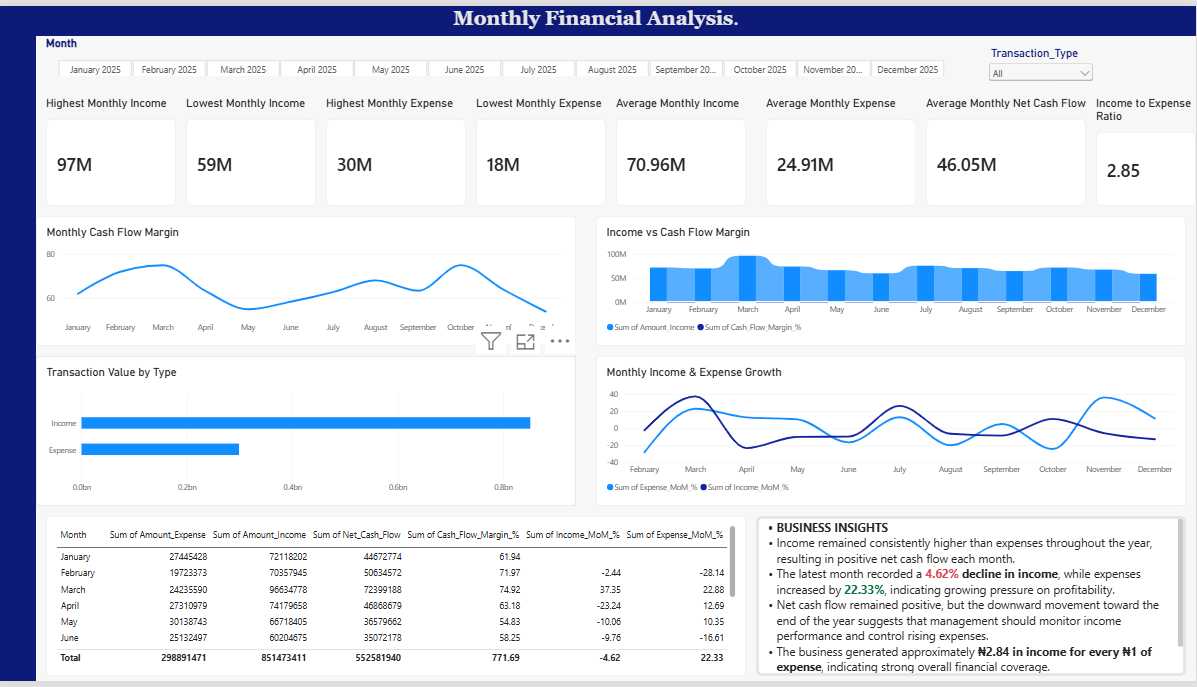

Layout of this report page (visuals, bound fields, positions):
{"tool":"powerbi","page":{"name":"Monthly Financial Analysis","canvas":[1920,1080],"ordinal":1},"visuals":[{"type":"textbox","box":[0,0,1920,48],"z":0},{"type":"lineChart","title":"Monthly Cash Flow Margin","fields":{"Category":["Monthly_Cash_Flow.Month.Variation.Date Hierarchy.Month"],"Y":["Sum(Monthly_Cash_Flow.Cash_Flow_Margin_%)"]},"box":[64,336,864,208],"z":1000},{"type":"lineChart","title":"Monthly Income & Expense Growth","fields":{"Y":["Sum(Monthly_Cash_Flow.Expense_MoM_%)","Sum(Monthly_Cash_Flow.Income_MoM_%)"],"Category":["Monthly_Cash_Flow.Month.Variation.Date Hierarchy.Month"]},"box":[960,560,944,240],"z":2000},{"type":"ribbonChart","title":"Income vs Cash Flow Margin","fields":{"Category":["Monthly_Cash_Flow.Month.Variation.Date Hierarchy.Month"],"Y":["Sum(Monthly_Cash_Flow.Amount_Income)","Sum(Monthly_Cash_Flow.Cash_Flow_Margin_%)"]},"box":[960,336,944,208],"z":3000},{"type":"clusteredBarChart","title":"Transaction Value by Type","fields":{"Y":["Sum(Clean_Data.Amount)"],"Category":["Clean_Data.Transaction_Type"]},"box":[64,560,864,240],"z":4000},{"type":"cardVisual","title":"Highest Monthly Income","fields":{"Data":["Max(Monthly_Cash_Flow.Amount_Income)"]},"box":[80,144,208,176],"z":5000},{"type":"cardVisual","title":"Lowest Monthly Income","fields":{"Data":["Min(Monthly_Cash_Flow.Amount_Income)"]},"box":[304,144,208,176],"z":6000},{"type":"cardVisual","title":"Highest Monthly Expense","fields":{"Data":["Max(Monthly_Cash_Flow.Amount_Expense)"]},"box":[528,144,224,176],"z":7000},{"type":"cardVisual","title":"Lowest Monthly Expense","fields":{"Data":["Min(Monthly_Cash_Flow.Amount_Expense)"]},"box":[768,144,208,176],"z":8000},{"type":"cardVisual","title":"Average Monthly Income","fields":{"Data":["Avg(Monthly_Cash_Flow.Amount_Income)"]},"box":[992,144,208,176],"z":9000},{"type":"cardVisual","title":"Average Monthly Expense","fields":{"Data":["Avg(Monthly_Cash_Flow.Amount_Expense)"]},"box":[1232,144,240,176],"z":10000},{"type":"cardVisual","title":"Average Monthly Net Cash Flow","fields":{"Data":["Avg(Monthly_Cash_Flow.Net_Cash_Flow)"]},"box":[1488,144,256,176],"z":11000},{"type":"cardVisual","title":"Income to Expense Ratio","fields":{"Data":["Clean_Data.Income to Expense Ratio"]},"box":[1760,144,160,176],"z":12000},{"type":"textbox","box":[0,40,64,1040],"z":13000},{"type":"tableEx","fields":{"Values":["Monthly_Cash_Flow.Month.Variation.Date Hierarchy.Month","Sum(Monthly_Cash_Flow.Amount_Expense)","Sum(Monthly_Cash_Flow.Amount_Income)","Sum(Monthly_Cash_Flow.Net_Cash_Flow)","Sum(Monthly_Cash_Flow.Cash_Flow_Margin_%)","Sum(Monthly_Cash_Flow.Income_MoM_%)","Sum(Monthly_Cash_Flow.Expense_MoM_%)"]},"box":[80,816,1120,256],"z":14000},{"type":"textbox","box":[1216,816,688,256],"z":15000},{"type":"slicer","title":"Month","fields":{"Values":["Monthly_Cash_Flow.Month"]},"box":[80,48,1456,64],"z":16000},{"type":"slicer","fields":{"Values":["Transaction_Type.Transaction_Type"]},"box":[1584,64,176,64],"z":17000}]}

Visuals, with their boxes in screenshot pixels (x1, y1, x2, y2), scaled from the page's 1920x1080 canvas onto the 1197x687 screenshot:
textbox: <box>0,0,1196,31</box>
"Monthly Cash Flow Margin" lineChart: <box>40,214,579,346</box>
"Monthly Income & Expense Growth" lineChart: <box>598,356,1187,509</box>
"Income vs Cash Flow Margin" ribbonChart: <box>598,214,1187,346</box>
"Transaction Value by Type" clusteredBarChart: <box>40,356,579,509</box>
"Highest Monthly Income" cardVisual: <box>50,92,180,204</box>
"Lowest Monthly Income" cardVisual: <box>190,92,319,204</box>
"Highest Monthly Expense" cardVisual: <box>329,92,469,204</box>
"Lowest Monthly Expense" cardVisual: <box>479,92,608,204</box>
"Average Monthly Income" cardVisual: <box>618,92,748,204</box>
"Average Monthly Expense" cardVisual: <box>768,92,918,204</box>
"Average Monthly Net Cash Flow" cardVisual: <box>928,92,1087,204</box>
"Income to Expense Ratio" cardVisual: <box>1097,92,1196,204</box>
textbox: <box>0,25,40,686</box>
tableEx - Monthly_Cash_Flow.Month.Variation.Date Hierarchy.Month x Sum(Monthly_Cash_Flow.Amount_Expense): <box>50,519,748,682</box>
textbox: <box>758,519,1187,682</box>
"Month" slicer: <box>50,31,958,71</box>
slicer - Transaction_Type.Transaction_Type: <box>988,41,1097,81</box>
